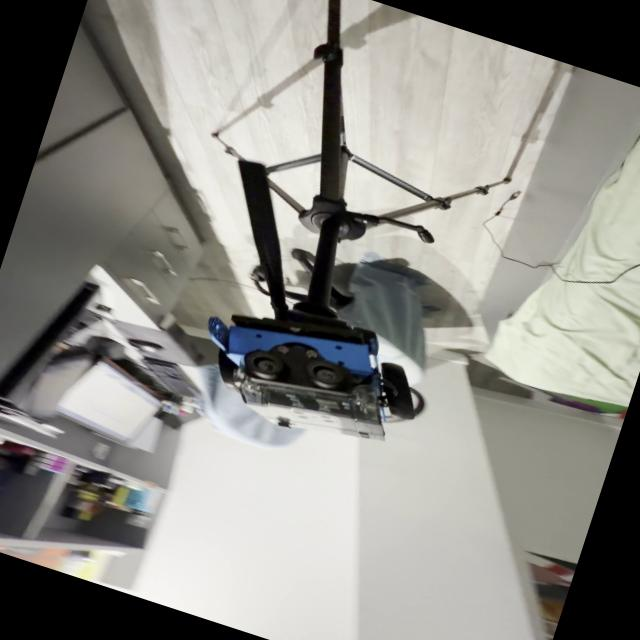mbot-detection: (175, 284, 440, 474)
